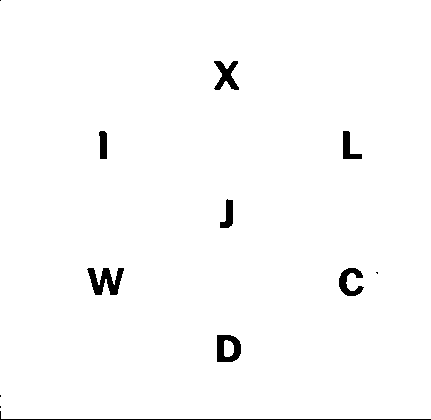I: (93, 125, 116, 173)
